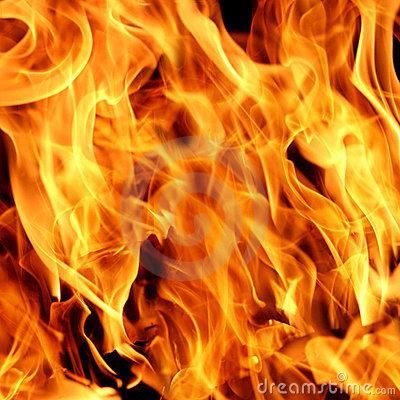fire: (3, 14, 400, 350)
